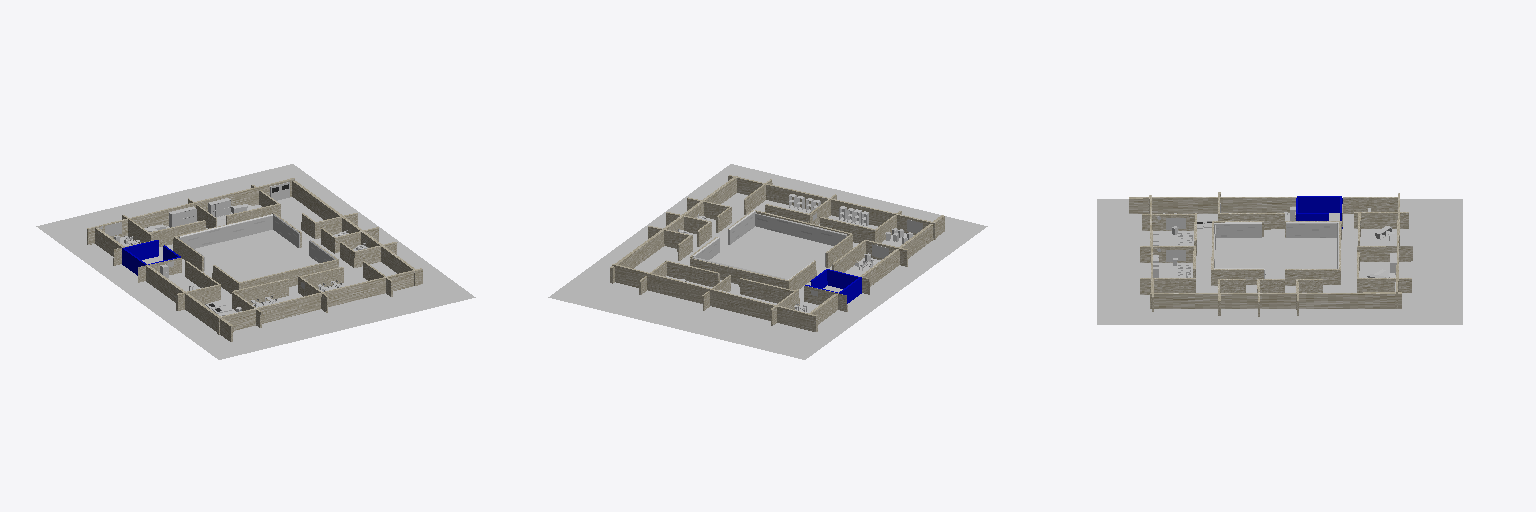
3 renders of one model, left to right at view 1: azimuth 30°, elevation 25°; view 2: azimuth 150°, elevation 25°; view 3: azimuth 270°, elevation 25°, orthographic.
Visible parts, largest first — view 1: floor, grass, Cube.001, Cube.003, Cube.004, Cube.025, HEDGE.006, Cube.017, Cube.038, Cube.040, Cube.012, Cube.006 (+1 smaller); view 2: floor, grass, Cube.004, Cube.001, Cube.003, Cube.025, HEDGE.005, Cube.018, Cube.041, Cube.040, Cube.038; view 3: floor, grass, Cube.003, Cube.025, Cube, Cube.008, Cube.014, HEDGE.002, Cube.007, Cube.013, HEDGE.007, Cube.019 (+5 smaller).
Part boxes in pixels (bbox=[...]): floor: bbox=[36, 164, 475, 359]; grass: bbox=[195, 230, 318, 281]; Cube.001: bbox=[217, 268, 422, 334]; Cube.003: bbox=[290, 178, 417, 285]; Cube.004: bbox=[87, 178, 294, 244]; Cube.025: bbox=[145, 264, 233, 341]; HEDGE.006: bbox=[179, 214, 272, 248]; Cube.017: bbox=[239, 260, 338, 288]; Cube.038: bbox=[232, 279, 288, 304]; Cube.040: bbox=[149, 220, 205, 246]; Cube.012: bbox=[176, 284, 220, 310]; Cube.006: bbox=[353, 242, 397, 267]; floor: bbox=[548, 164, 987, 359]; grass: bbox=[709, 226, 833, 279]; Cube.004: bbox=[612, 264, 817, 331]; Cube.001: bbox=[728, 175, 935, 239]; Cube.003: bbox=[610, 176, 737, 283]; Cube.025: bbox=[860, 215, 944, 286]; HEDGE.005: bbox=[755, 213, 846, 245]; Cube.018: bbox=[690, 258, 788, 288]; Cube.041: bbox=[665, 260, 719, 286]; Cube.040: bbox=[739, 278, 794, 303]; Cube.038: bbox=[819, 217, 875, 243]; floor: bbox=[1097, 199, 1462, 324]; grass: bbox=[1215, 237, 1336, 278]; Cube.003: bbox=[1150, 292, 1401, 308]; Cube.025: bbox=[1129, 197, 1296, 213]; Cube: bbox=[1343, 197, 1397, 213]; Cube.008: bbox=[1354, 212, 1408, 228]; Cube.014: bbox=[1140, 278, 1195, 294]; HEDGE.002: bbox=[1286, 222, 1338, 237]; Cube.007: bbox=[1357, 246, 1412, 261]; Cube.013: bbox=[1357, 278, 1411, 292]; HEDGE.007: bbox=[1214, 222, 1261, 237]; Cube.019: bbox=[1285, 269, 1339, 285].
Bounding box in the file's own units: 97.19 × 8.16 × 120.
Materials: 140 (1 with a texture image).